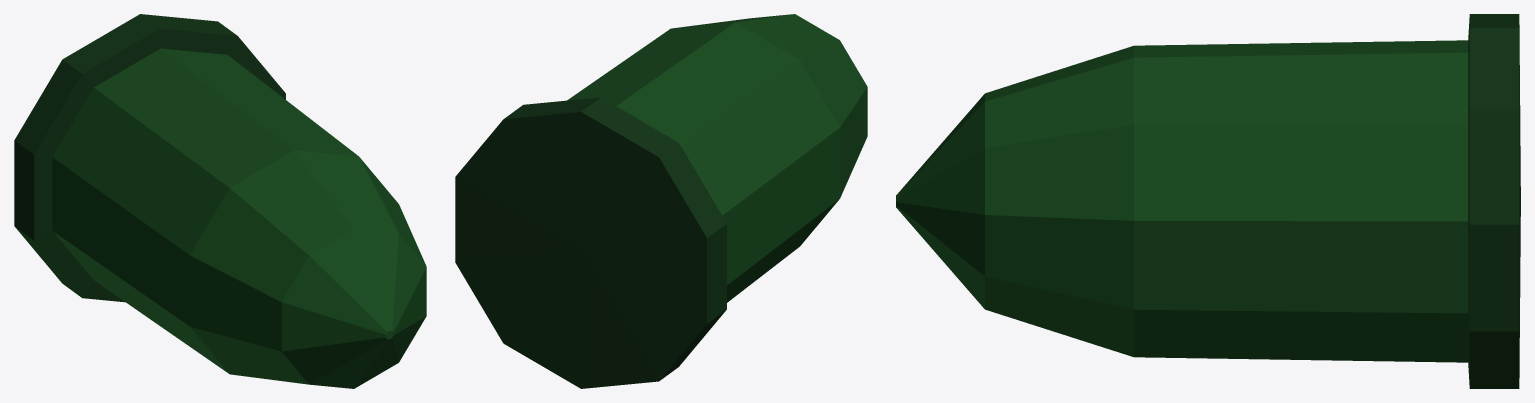
The model's file is shell_small.fbx.
The picture shows the model from 3 angles, left to right: view 1: azimuth 30°, elevation 25°; view 2: azimuth 150°, elevation 25°; view 3: azimuth 270°, elevation 25°; orthographic projection. The views are drawn at different scales.
Parts seen in each view (by area): view 1: Mesh; view 2: Mesh; view 3: Mesh.
Part boxes in pixels (bbox=[...]): Mesh: bbox=[14, 14, 426, 388]; Mesh: bbox=[455, 14, 867, 388]; Mesh: bbox=[896, 14, 1520, 388].
Size of the model in its own units: 0.2578 by 0.2711 by 0.4435.
